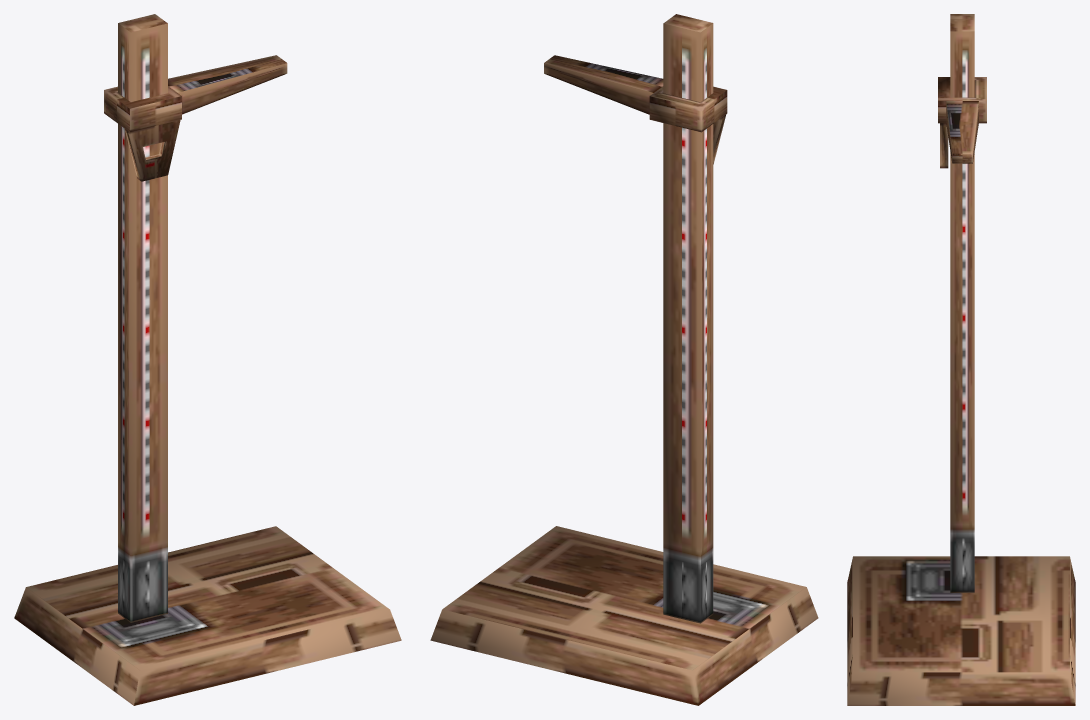
The model's file is int_hsp_stature.dae.
3 renders of one model, left to right at view 1: azimuth 30°, elevation 25°; view 2: azimuth 150°, elevation 25°; view 3: azimuth 270°, elevation 25°, orthographic. The views are drawn at different scales.
Parts seen in each view (by area): view 1: int_hsp_stature; view 2: int_hsp_stature; view 3: int_hsp_stature.
Part boxes in pixels (left/top/right/bottom): int_hsp_stature: left=14, top=14, right=401, bottom=705; int_hsp_stature: left=430, top=14, right=818, bottom=705; int_hsp_stature: left=847, top=14, right=1075, bottom=705.
Bounding box in the file's own units: 28.86 × 63.98 × 22.36.
Materials: 2 (2 with a texture image).
